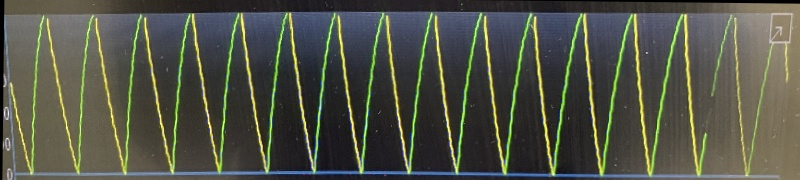normal_volume: (23, 9, 717, 180)
